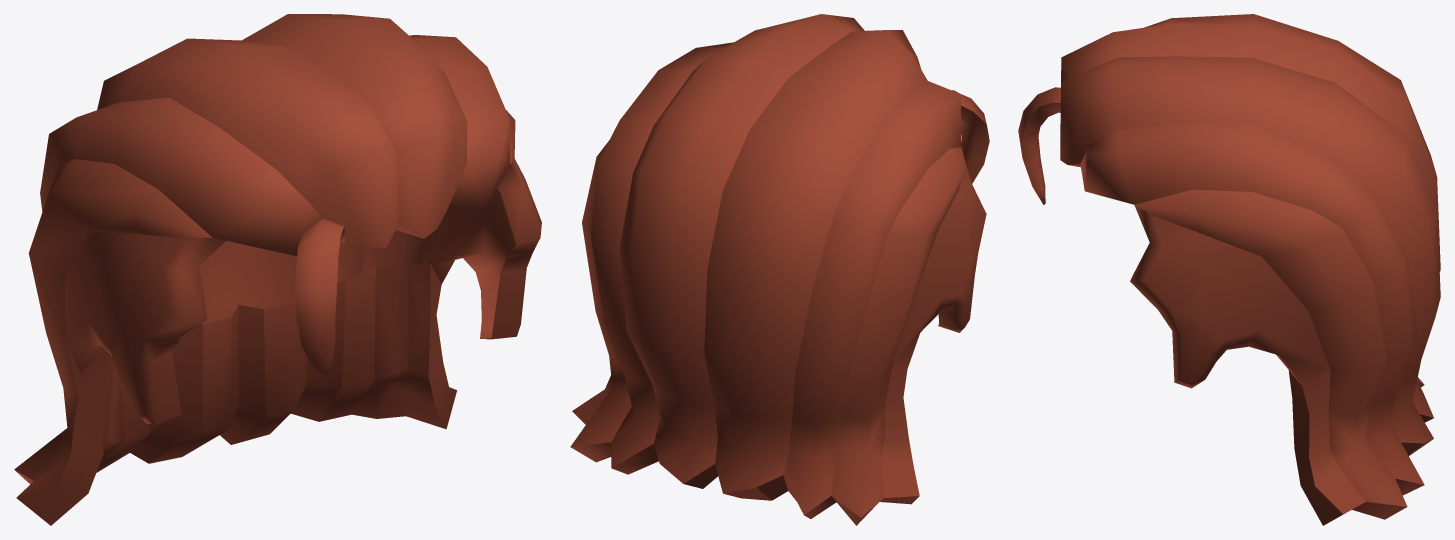
File: Hair_Brown_9.fbx
3 renders of one model, left to right at view 1: azimuth 30°, elevation 25°; view 2: azimuth 150°, elevation 25°; view 3: azimuth 270°, elevation 25°, orthographic. The views are drawn at different scales.
Visible parts, largest first — view 1: Hair_Brown_9; view 2: Hair_Brown_9; view 3: Hair_Brown_9.
Boxes of the visible parts, x1,y1,x2,y2 form: Hair_Brown_9: (14, 14, 541, 525); Hair_Brown_9: (570, 14, 989, 525); Hair_Brown_9: (1018, 14, 1440, 525).
Size of the model in its own units: 58.08 by 61.17 by 57.42.
